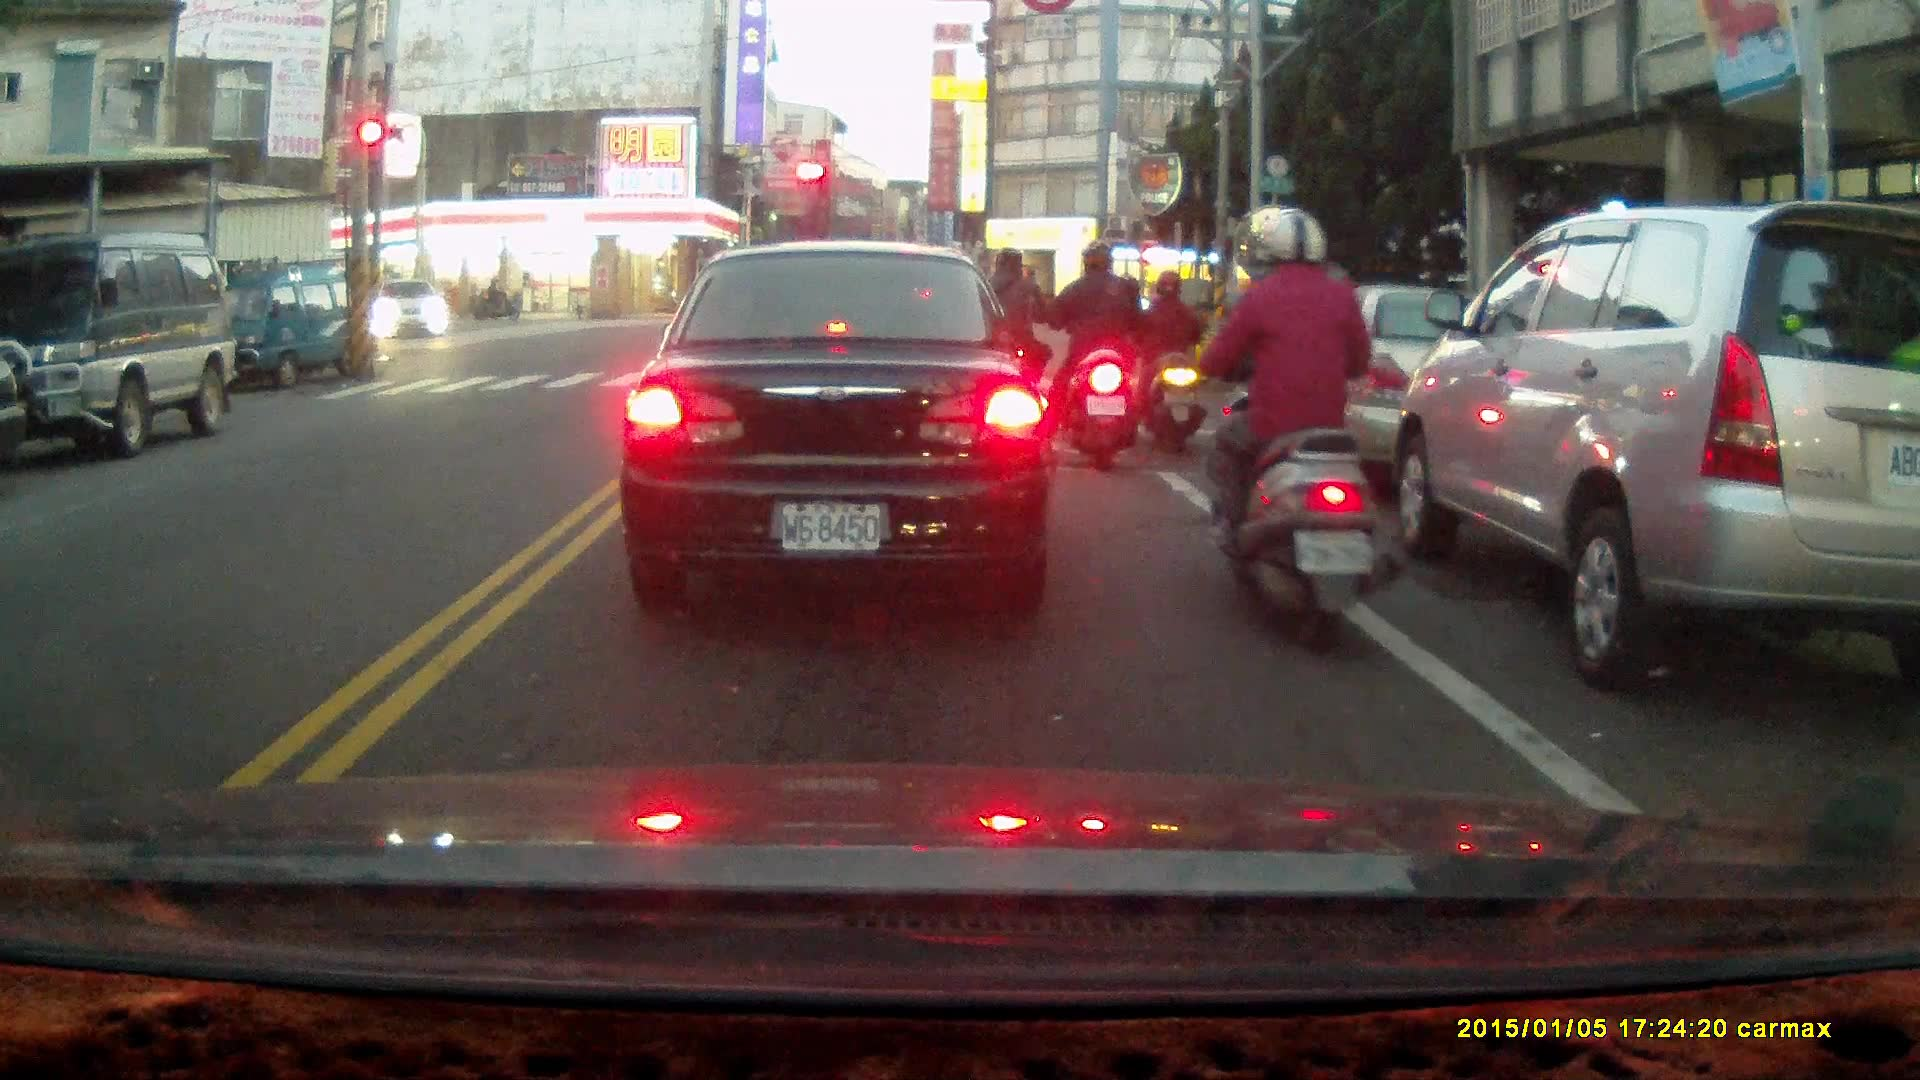rider: (1200, 202, 1407, 660), (1048, 242, 1141, 468), (960, 239, 1057, 431), (1134, 269, 1204, 450), (473, 278, 518, 319)
vehicle: (1386, 202, 1917, 695), (617, 243, 1061, 606), (1257, 286, 1569, 492), (1, 234, 239, 458), (194, 256, 380, 393), (372, 277, 451, 343)
